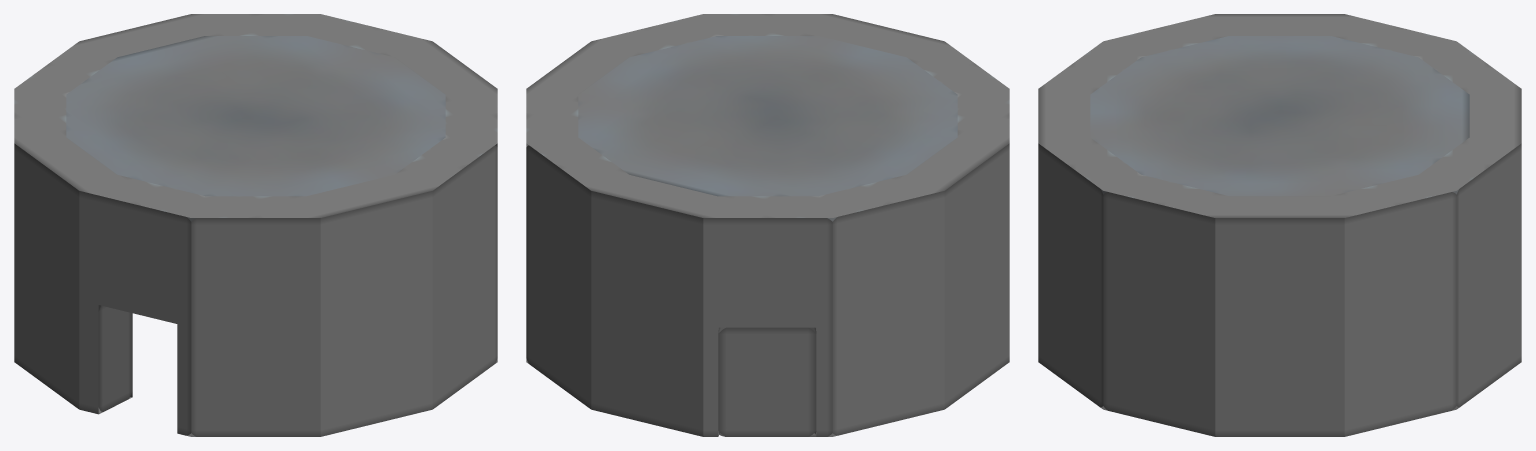
Rendered from OneEntranceCave.fbx.
3 renders of one model, left to right at view 1: azimuth 30°, elevation 25°; view 2: azimuth 150°, elevation 25°; view 3: azimuth 270°, elevation 25°, orthographic.
Parts seen in each view (by area): view 1: tube; view 2: tube; view 3: tube.
Part boxes in pixels (x1,y1,x2,y2): tube: (14, 14, 497, 436); tube: (526, 14, 1009, 436); tube: (1038, 14, 1521, 436).
Size of the model in its own units: 1.56 by 0.7812 by 1.56.
Materials: 1 (1 with a texture image).
